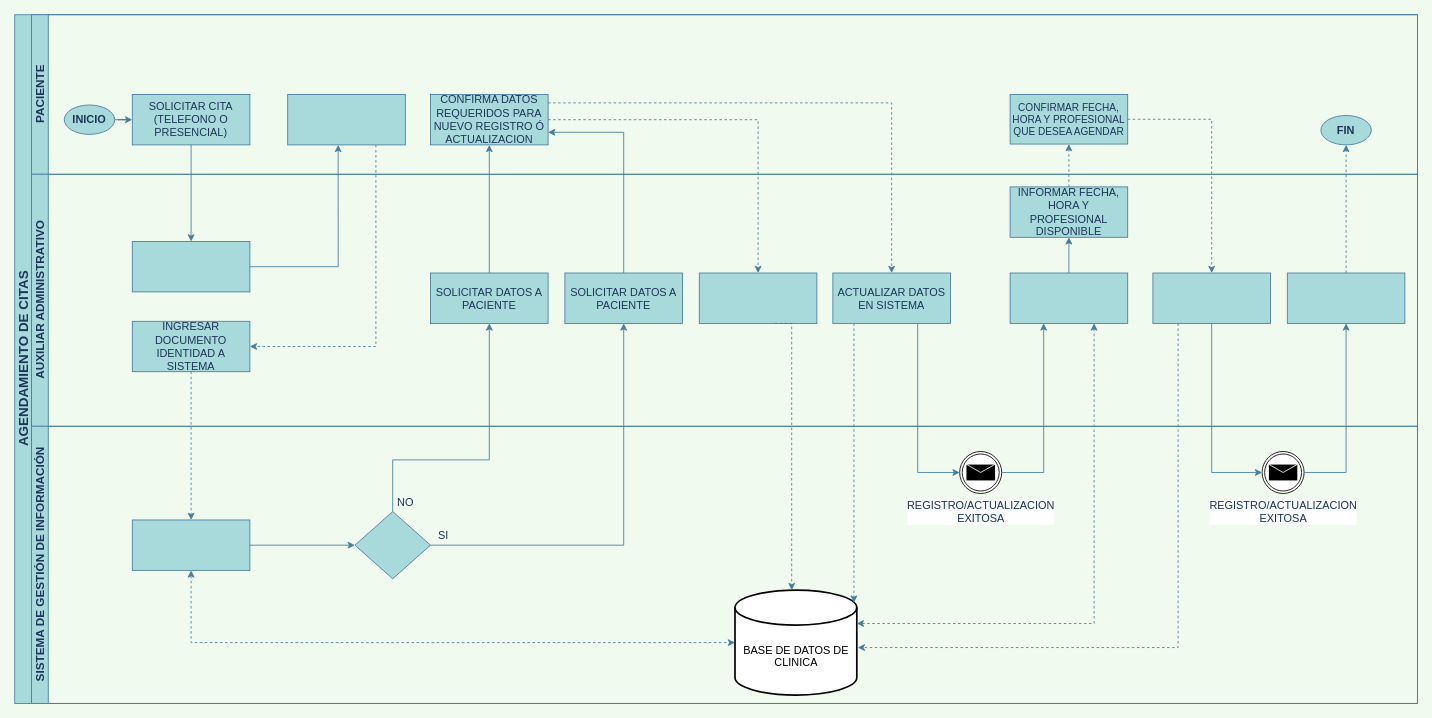
This 1432x718 diagram has some shape labels left out. The centre of each missing label's shape, as x and y in pixels:
"CONFIRMA DOCUMENTO DE IDENTIFICACIÓN" goes at (346,119).
"INGRESAR DATOS DE CITA A SISTEMA" goes at (1211,297).
"INGRESAR DATOS NUEVOS A SISTEMA" goes at (757,297).
"NOTIFICAR Y DAR RECOMENDACIONES DE CITA" goes at (1345,297).
"SOLICITAR DOCUMENTO DE IDENTIFICACIÓN" goes at (190,266).
"VALIDAR SI PACIENTE REGISTRA EN SISTEMA" goes at (190,544).
"VERIFICAR AGENDA DISPONIBLE, POR ESPECIALIDAD Y PROFESIONAL" goes at (1068,297).
"¿PACIENTE REGISTRA EN SISTEMA?" goes at (392,545).
